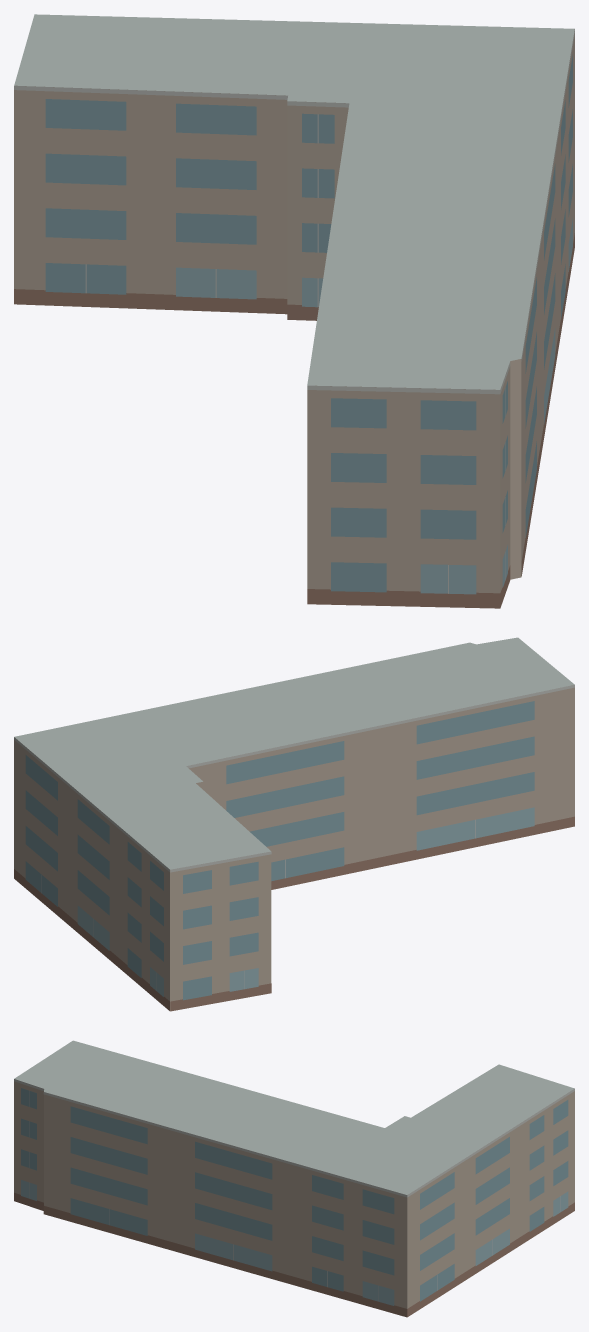
File: survey-upis-32663950.glb
3 renders of one model, top to bottom at view 1: azimuth 30°, elevation 25°; view 2: azimuth 150°, elevation 25°; view 3: azimuth 270°, elevation 25°, orthographic. The views are drawn at different scales.
Parts seen in each view (by area): view 1: survey-upis-32663950.tmp; view 2: survey-upis-32663950.tmp; view 3: survey-upis-32663950.tmp.
Part boxes in pixels (<box>): survey-upis-32663950.tmp: <box>14,14,574,608</box>; survey-upis-32663950.tmp: <box>14,637,574,1011</box>; survey-upis-32663950.tmp: <box>14,1040,574,1317</box>.
Size of the model in its own units: 33.08 by 12.2 by 50.7.
